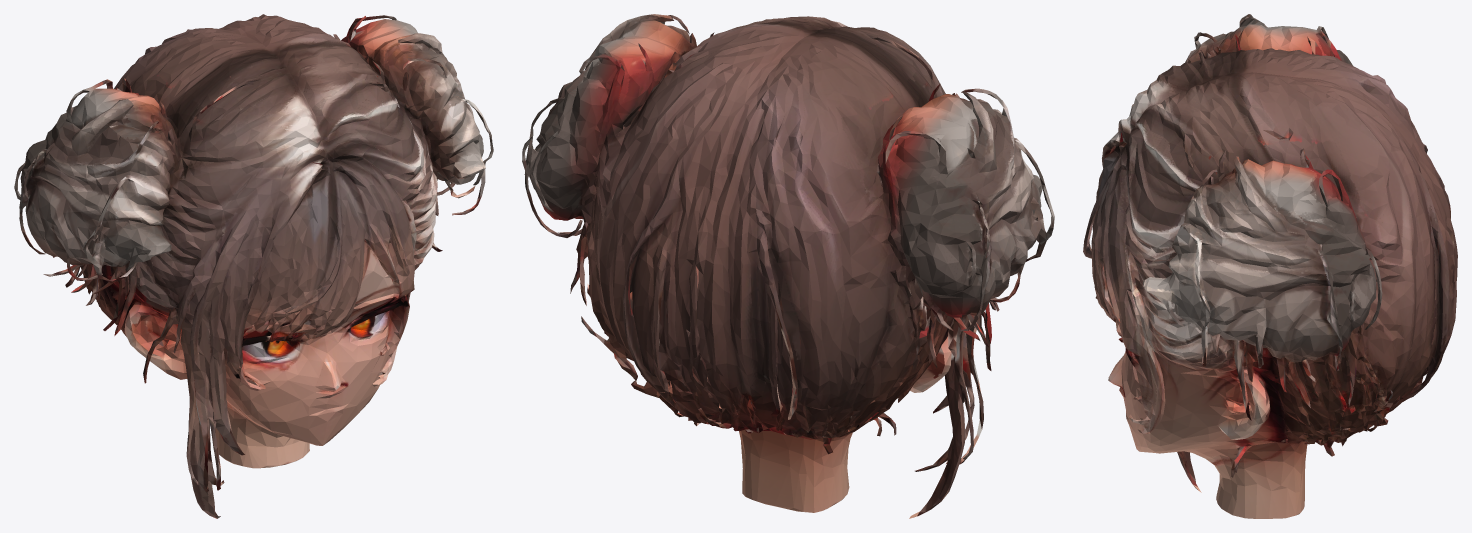
The model's file is side_megu_repaired_atlas.glb.
3 views of the same model, side by side, from view 1: azimuth 30°, elevation 25°; view 2: azimuth 150°, elevation 25°; view 3: azimuth 270°, elevation 25° (orthographic). The views are drawn at different scales.
Visible parts, largest first — view 1: temp_mesh.ply; view 2: temp_mesh.ply; view 3: temp_mesh.ply.
Part boxes in pixels (x1,y1,x2,y2): temp_mesh.ply: (14,14,493,518); temp_mesh.ply: (522,14,1054,518); temp_mesh.ply: (1083,14,1457,518).
Bounding box in the file's own units: 1.96 × 1.97 × 1.45.
Materials: 1 (1 with a texture image).
